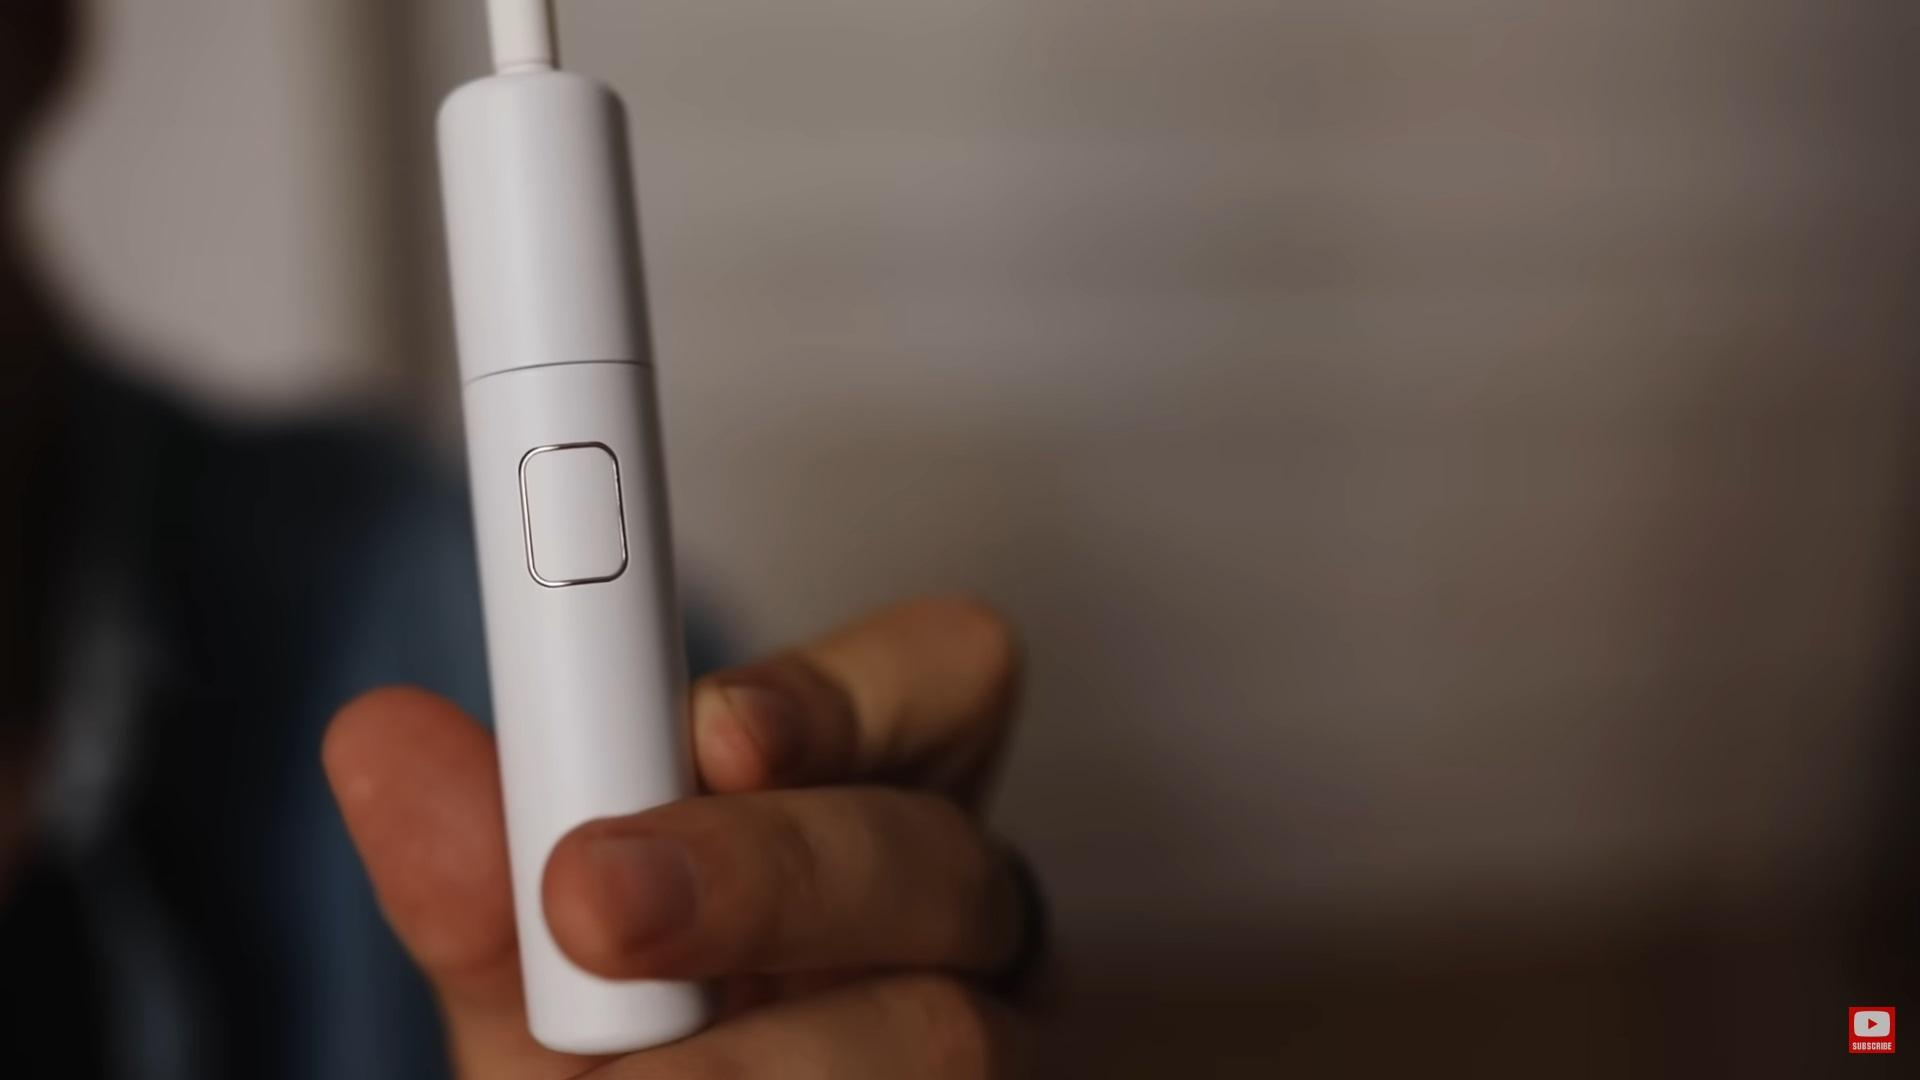iqos: (439, 0, 712, 1052)
